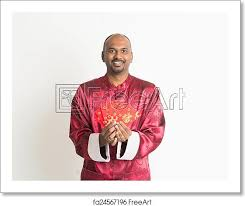Indian_Male: (98, 34, 140, 75)
